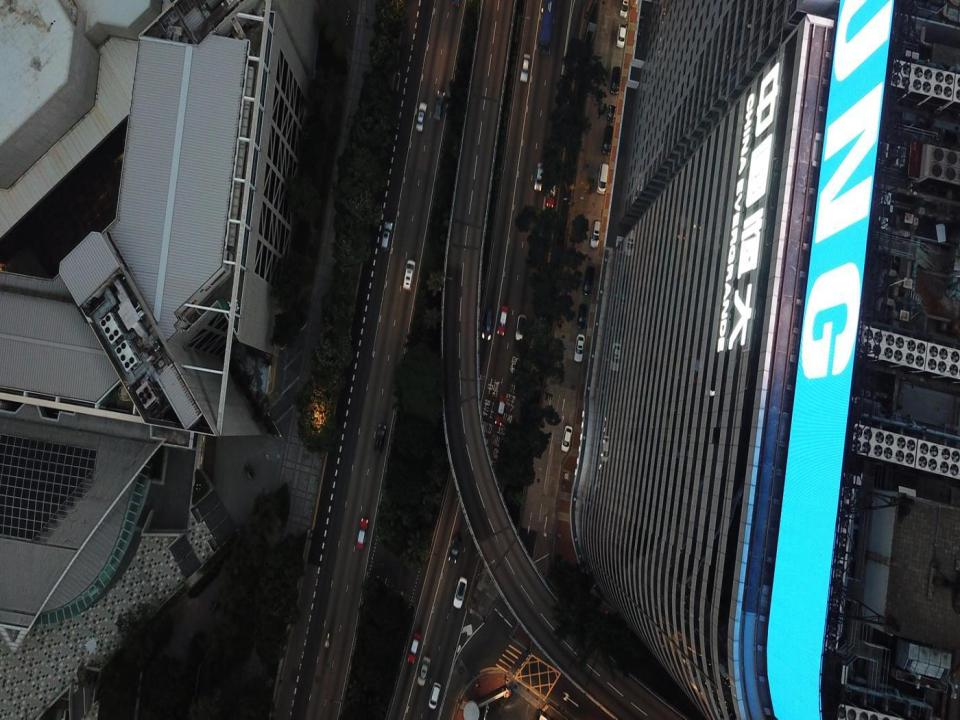car: (453, 576, 467, 608), (408, 634, 422, 664), (448, 534, 461, 564), (433, 90, 445, 121), (494, 395, 506, 426), (418, 657, 430, 686), (496, 305, 507, 336), (574, 333, 585, 362), (374, 424, 386, 450), (429, 682, 440, 709), (416, 102, 426, 131), (561, 425, 572, 451), (577, 303, 588, 328), (516, 313, 526, 340), (520, 54, 529, 81), (535, 164, 544, 190), (547, 182, 556, 208), (607, 105, 616, 121)
truck: (537, 0, 555, 53)
van: (355, 518, 368, 550), (402, 260, 415, 291), (582, 266, 595, 295), (596, 164, 609, 192), (601, 126, 614, 154), (610, 66, 622, 95), (381, 221, 392, 252), (482, 310, 493, 340), (590, 221, 600, 250), (617, 24, 626, 48), (619, 0, 628, 18)
